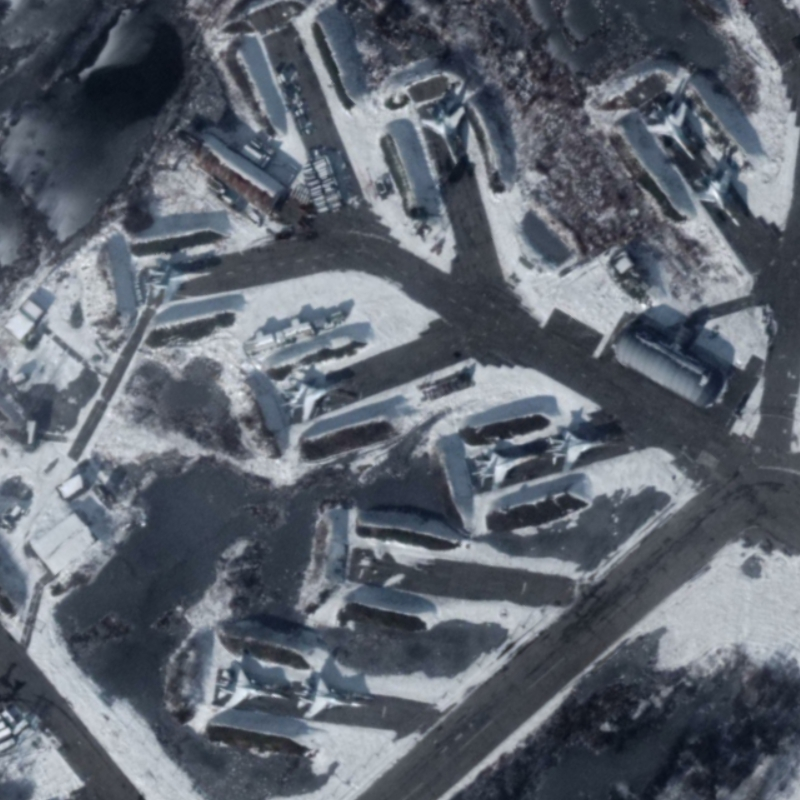A1: (690, 167, 744, 229), (469, 446, 540, 493), (419, 98, 468, 166), (645, 97, 697, 161), (147, 256, 213, 305), (544, 427, 608, 475), (281, 377, 346, 424)
A19: (215, 660, 287, 715), (293, 675, 367, 720)
